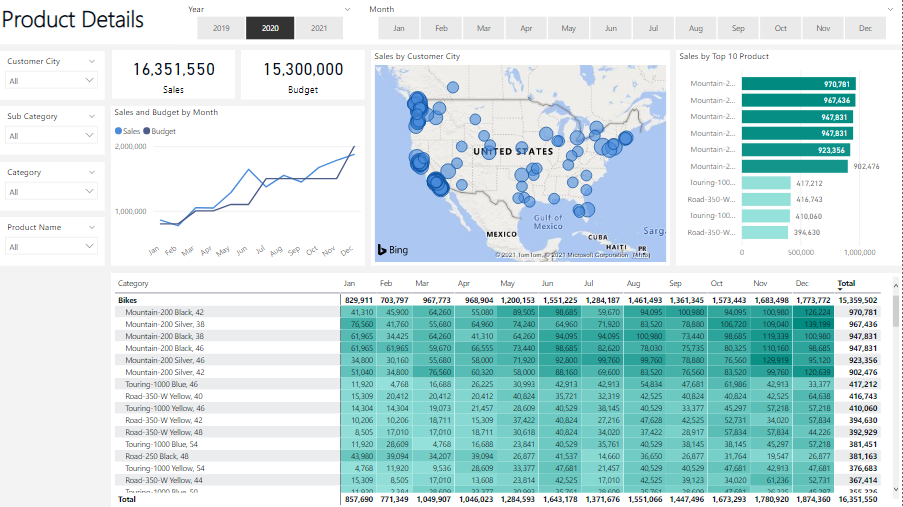

This screenshot's page, from the dashboard's own definition file:
{"tool":"powerbi","page":{"name":"Product Details","canvas":[1280,720],"ordinal":2},"visuals":[{"type":"textbox","box":[0,0,1280,64],"z":0},{"type":"slicer","fields":{"Values":["DIM_Calendar.Year"]},"box":[256,0,256,64],"z":1000},{"type":"slicer","fields":{"Values":["DIM_Calendar.MonthShort"]},"box":[512,0,768,64],"z":2000},{"type":"slicer","fields":{"Values":["DIM_Customers.Customer City"]},"box":[0,73,150.5,69.3],"z":3000},{"type":"slicer","fields":{"Values":["DIM_Products.Product Category"]},"box":[0,229.9,150.5,69.3],"z":4000},{"type":"slicer","fields":{"Values":["DIM_Products.Product Name"]},"box":[0,308.4,150.5,69.3],"z":5000},{"type":"slicer","fields":{"Values":["DIM_Products.Sub Category"]},"box":[0,151.4,150.5,69.3],"z":6000},{"type":"lineChart","fields":{"Category":["DIM_Calendar.MonthShort"],"Y":["Analysis Metrics.Sales","Analysis Metrics.Budget"]},"box":[159.8,151.8,358.7,226.4],"z":7000},{"type":"card","fields":{"Values":["Analysis Metrics.Sales"]},"box":[160.7,72.8,174,69.2],"z":8000},{"type":"map","fields":{"Category":["DIM_Customers.Customer City"],"Size":["Analysis Metrics.Sales"]},"box":[527.3,72.8,423.5,304.5],"z":9000},{"type":"card","fields":{"Values":["Analysis Metrics.Budget"]},"box":[343.6,72.8,174.9,70.1],"z":10000},{"type":"pivotTable","fields":{"Rows":["DIM_Products.Product Category","DIM_Products.Product Name"],"Columns":["DIM_Calendar.MonthShort"],"Values":["Analysis Metrics.Sales"]},"box":[159.8,387.1,1120.4,332.9],"z":11000},{"type":"clusteredBarChart","title":"Sales by Top 10 Product","fields":{"Category":["DIM_Products.Product Name"],"Y":["Analysis Metrics.Sales"]},"box":[959.7,72.8,320.5,304.5],"z":12000},{"type":"lineChart","fields":{"Category":["DIM_Calendar.MonthShort"],"Y":["Analysis Metrics.Sales","Analysis Metrics.Budget"]},"box":[161.3,151.4,357.9,224.9],"z":12001},{"type":"barChart","title":"Sales by Top 10 Customers","fields":{"Category":["DIM_Customers.Full Name"],"Y":["Analysis Metrics.Sales"]},"box":[959.1,72.1,321.1,304.1],"z":12002}]}

Visuals, with their boxes in screenshot pixels (x1, y1, x2, y2), scaled from the page's 1280x720 canvas onto the 903x507 screenshot:
textbox: 0,0,902,45
slicer - DIM_Calendar.Year: 181,0,361,45
slicer - DIM_Calendar.MonthShort: 361,0,902,45
slicer - DIM_Customers.Customer City: 0,51,106,100
slicer - DIM_Products.Product Category: 0,162,106,211
slicer - DIM_Products.Product Name: 0,217,106,266
slicer - DIM_Products.Sub Category: 0,107,106,155
lineChart - DIM_Calendar.MonthShort x Analysis Metrics.Sales: 113,107,366,266
card - Analysis Metrics.Sales: 113,51,236,100
map - DIM_Customers.Customer City x Analysis Metrics.Sales: 372,51,671,266
card - Analysis Metrics.Budget: 242,51,366,101
pivotTable - DIM_Products.Product Category x DIM_Products.Product Name: 113,273,902,506
"Sales by Top 10 Product" clusteredBarChart: 677,51,902,266
lineChart - DIM_Calendar.MonthShort x Analysis Metrics.Sales: 114,107,366,265
"Sales by Top 10 Customers" barChart: 677,51,902,265
